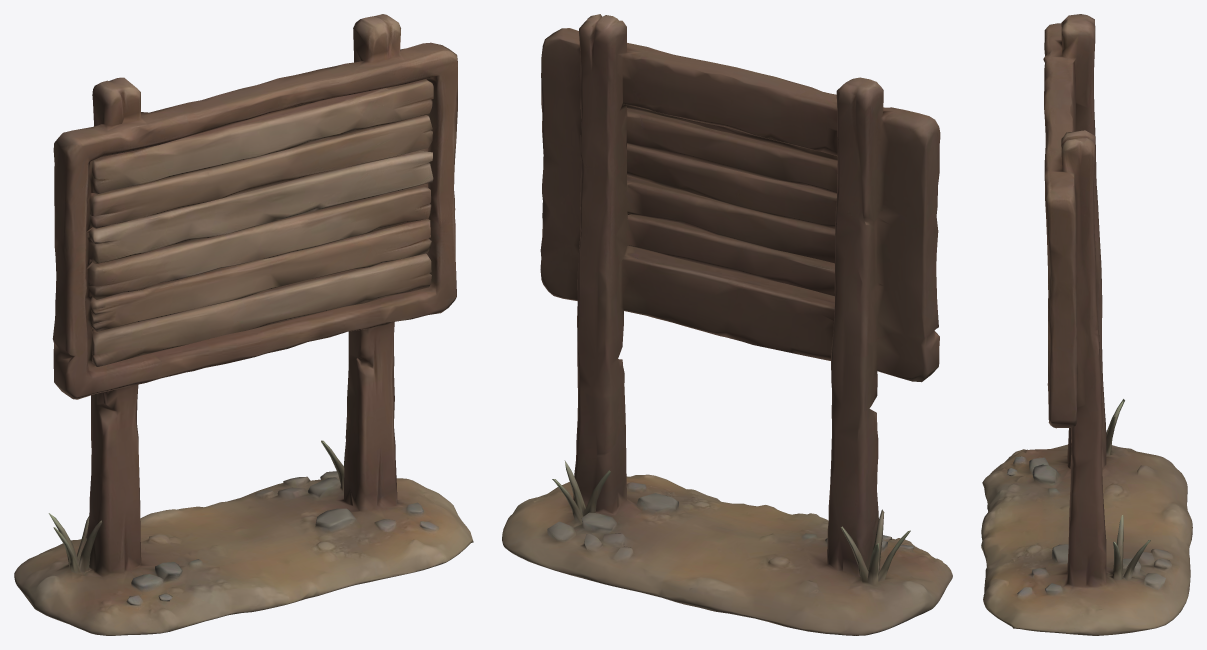
File: motor_park_board.glb
The picture shows the model from 3 angles, left to right: view 1: azimuth 30°, elevation 25°; view 2: azimuth 150°, elevation 25°; view 3: azimuth 270°, elevation 25°; orthographic projection. The views are drawn at different scales.
Visible parts, largest first — view 1: tripo_node_17052502-38b1-4e91-b519-ef2b2e4adfbe; view 2: tripo_node_17052502-38b1-4e91-b519-ef2b2e4adfbe; view 3: tripo_node_17052502-38b1-4e91-b519-ef2b2e4adfbe.
Boxes of the visible parts, left/top/right/bottom form: tripo_node_17052502-38b1-4e91-b519-ef2b2e4adfbe: left=14, top=14, right=473, bottom=635; tripo_node_17052502-38b1-4e91-b519-ef2b2e4adfbe: left=502, top=14, right=952, bottom=635; tripo_node_17052502-38b1-4e91-b519-ef2b2e4adfbe: left=981, top=14, right=1192, bottom=635.
Bounding box in the file's own units: 0.8497 × 1 × 0.4102.
1 material, 1 textured.
